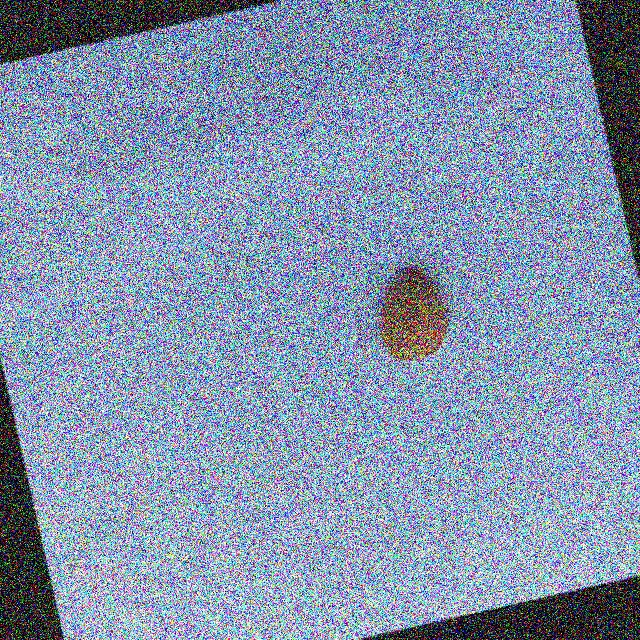grade2: (361, 259, 460, 371)
